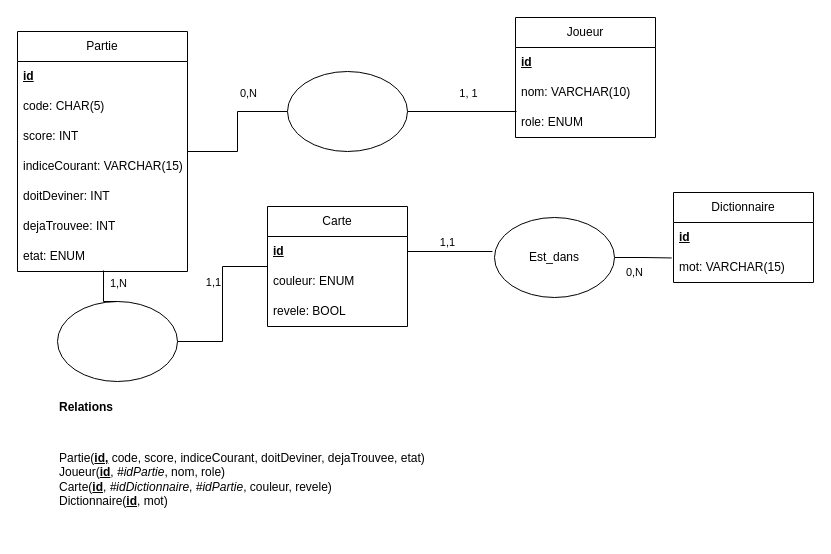
Image size: 831x554. Some labels were removed from this diagram. Each missing label, with the centre of its shape:
Comporte: pixel 117 341
Joue: pixel 347 111
